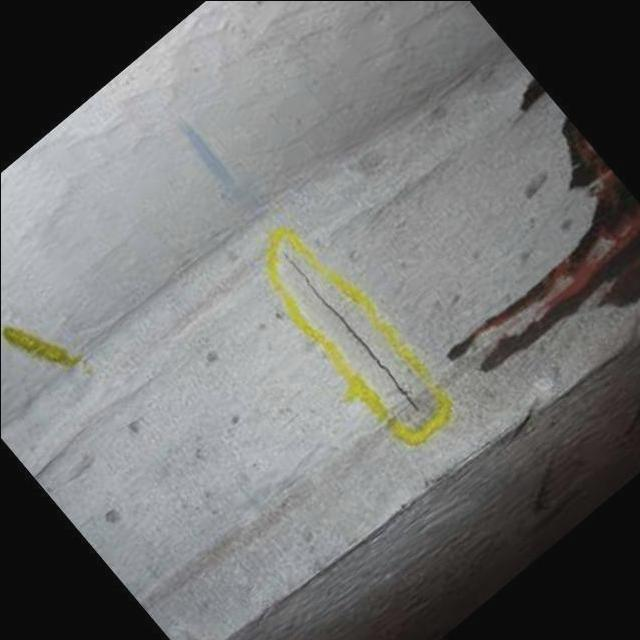defect: (274, 243, 421, 412)
